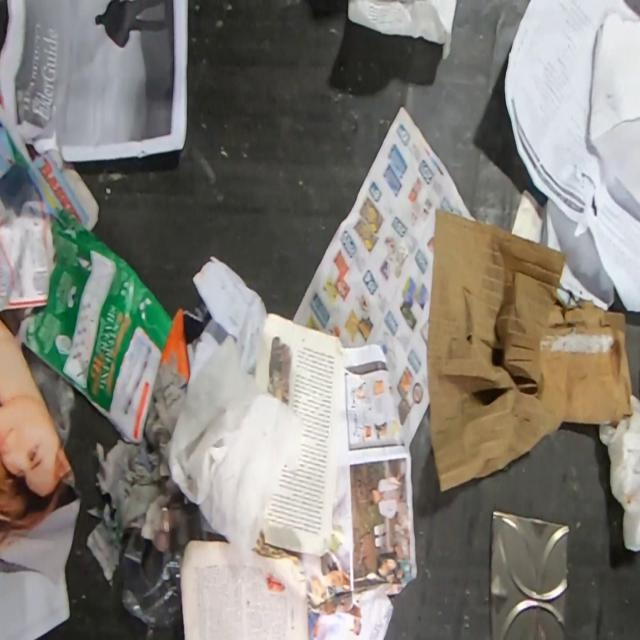cardboard: (426, 208, 634, 494), (18, 206, 176, 444), (152, 303, 212, 392)
metal: (488, 508, 570, 640)
rigid_plastic: (121, 508, 190, 627)
